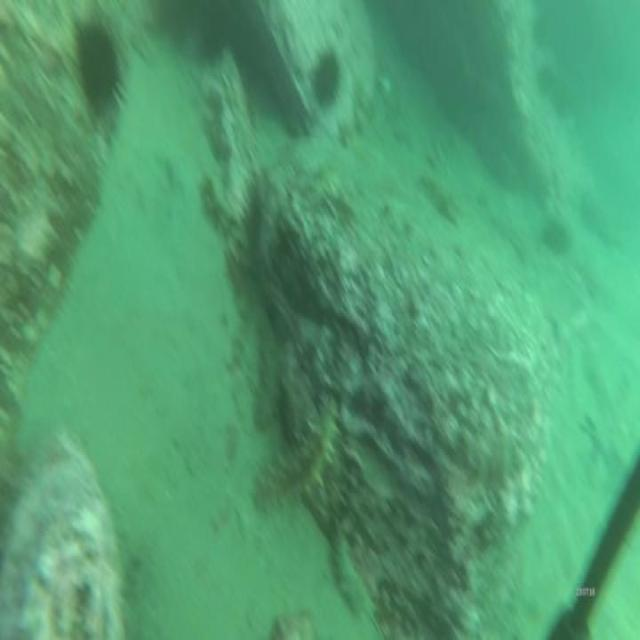echinus: (252, 392, 342, 521)
starfish: (75, 14, 125, 117), (311, 44, 341, 114)
